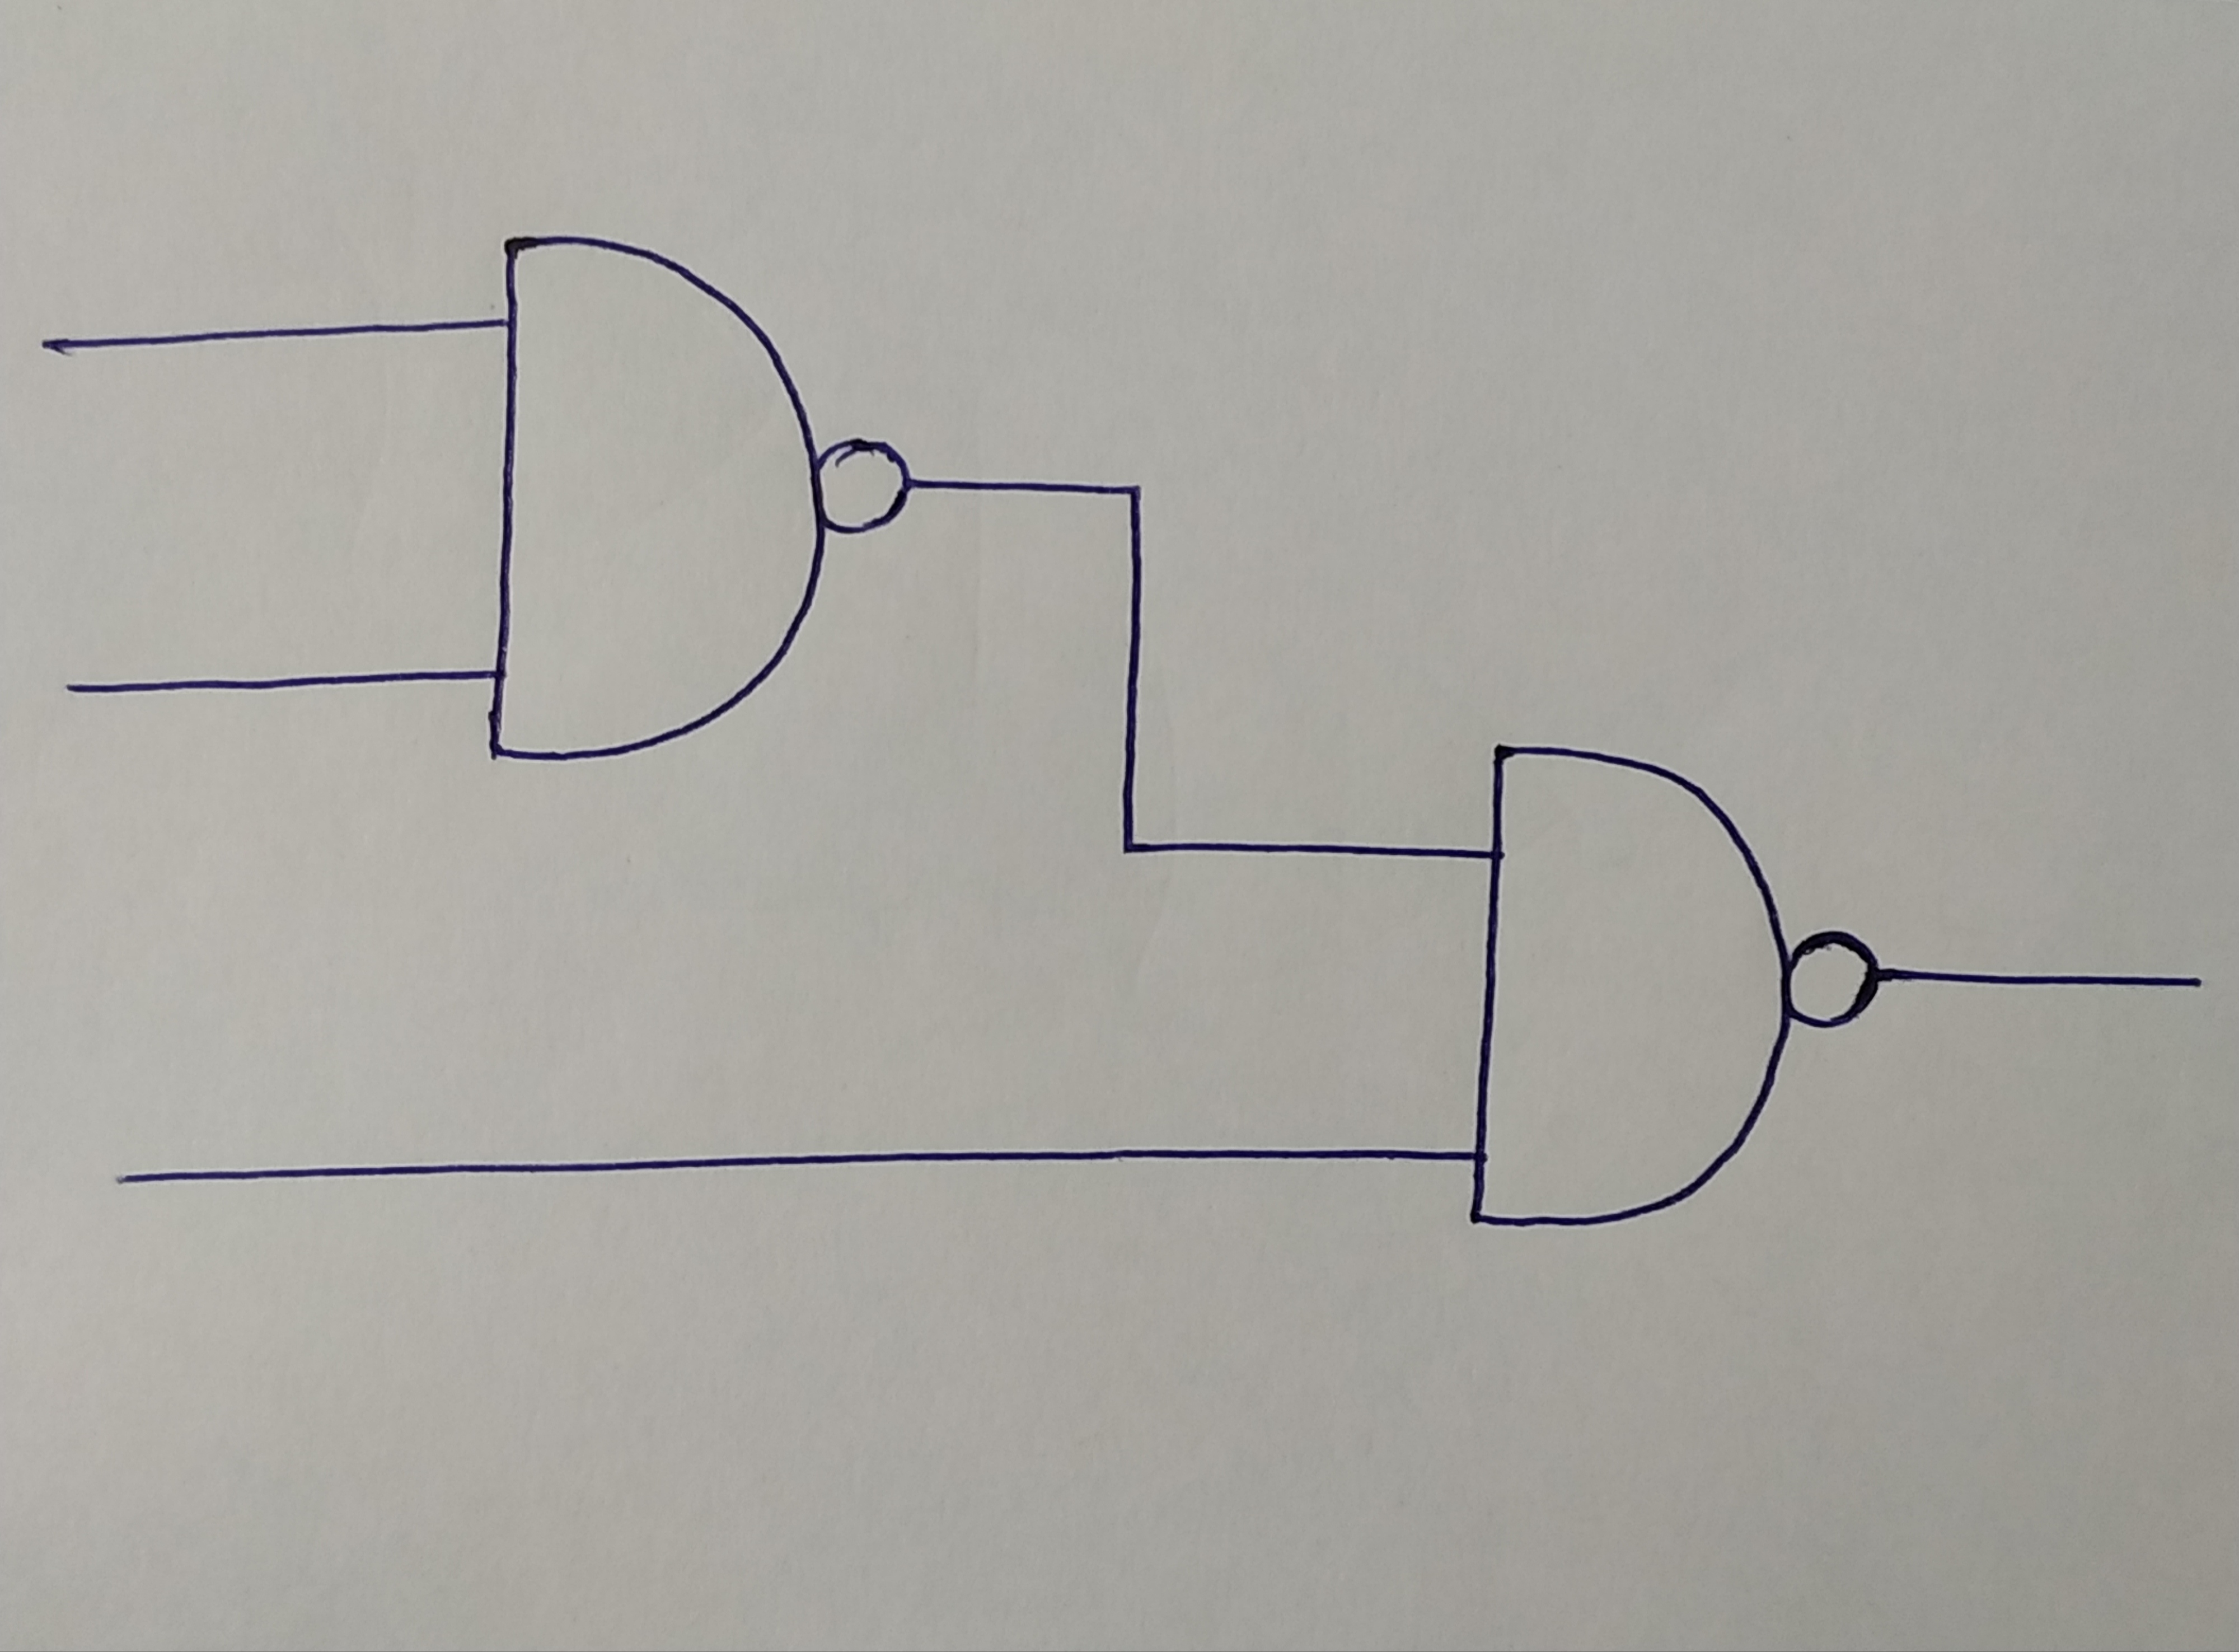and: (490, 231, 821, 758), (1479, 741, 1787, 1224)
not: (1778, 930, 1874, 1023), (824, 442, 902, 534)
